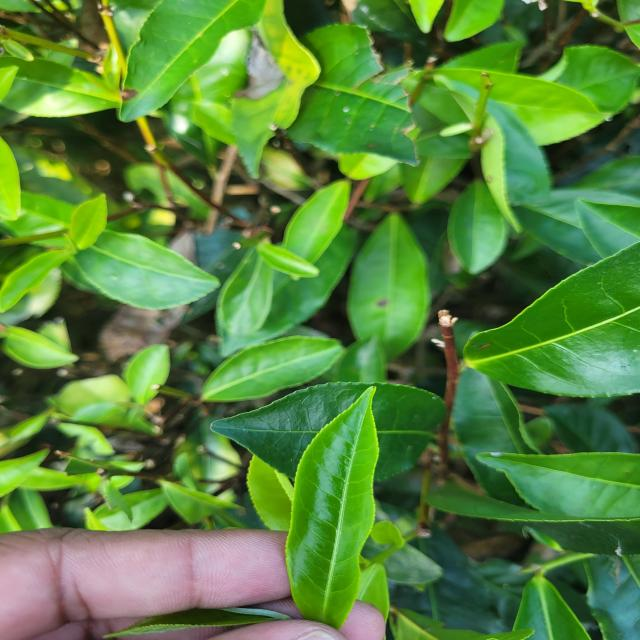Catagory A(1-2 days): (282, 383, 402, 632)
